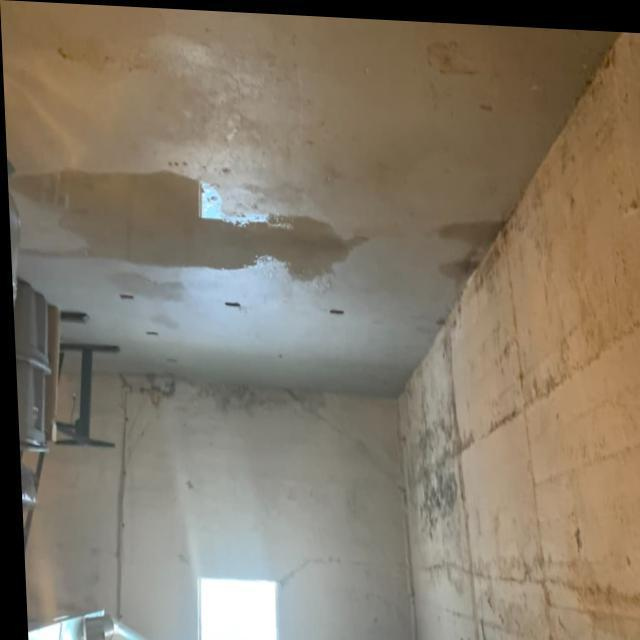water accumulation: (14, 168, 369, 284), (434, 216, 516, 294)
